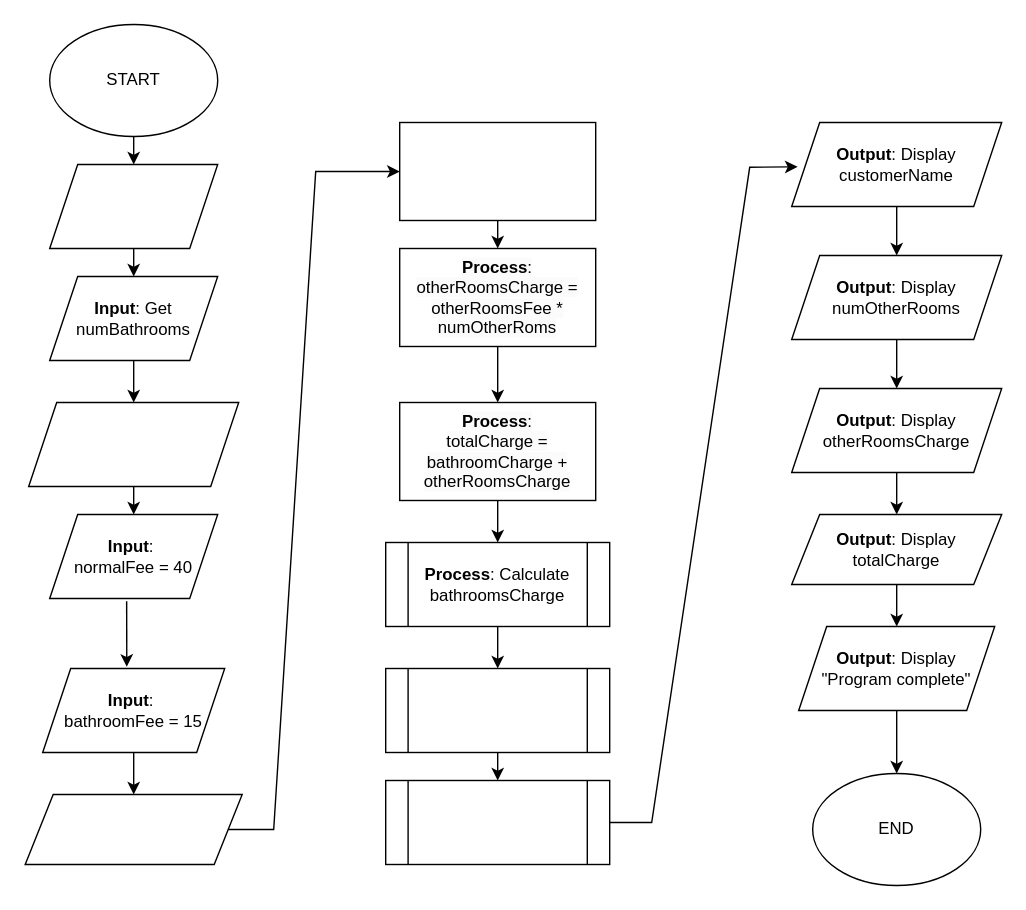
Some shapes in this 1026 by 910 pixel diagram are drawn without their labels. Here are the shapes that lost their labels. From the top down, the centre of each, then its label:
pixel 497 170: Process : bathroomCharge = bathroomFee * numBathrooms
pixel 133 205: Input : Get customerName
pixel 133 443: Input : Get numOtherRooms
pixel 497 709: Process : Calculate otherRoomsCharge
pixel 133 828: Input : otherRoomsFee = 10
pixel 497 821: Process : Calculate totalCharge
